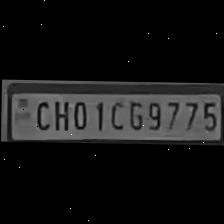0: (68, 97, 88, 130)
1: (88, 98, 106, 132)
5: (198, 98, 218, 131)
7: (178, 100, 198, 132), (162, 97, 180, 130)
9: (142, 97, 162, 130)
C: (30, 97, 50, 130), (105, 97, 124, 130)
G: (124, 98, 142, 132)
H: (50, 97, 70, 131)
